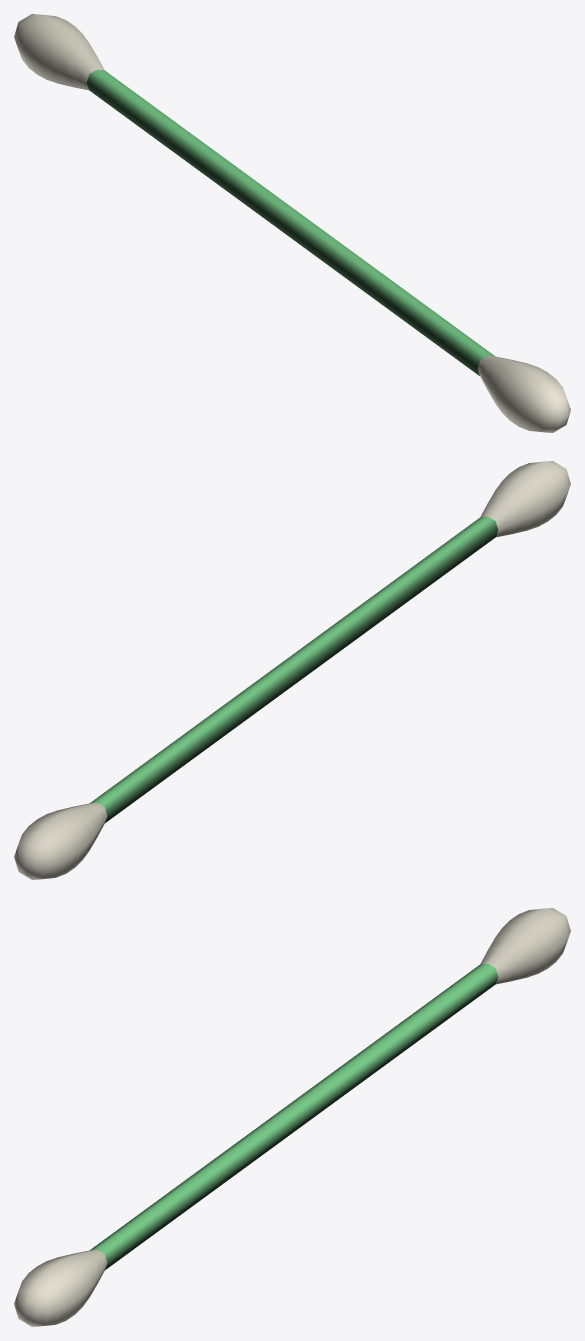
Rendered from qtip.FBX.
3 renders of one model, top to bottom at view 1: azimuth 30°, elevation 25°; view 2: azimuth 150°, elevation 25°; view 3: azimuth 330°, elevation 25°, orthographic.
Parts seen in each view (by area): view 1: Box001; view 2: Box001; view 3: Box001.
Boxes of the visible parts, x1,y1,x2,y2 form: Box001: (14, 14, 570, 432); Box001: (14, 461, 570, 879); Box001: (14, 908, 570, 1326).
Size of the model in its own units: 0.3865 by 0.3865 by 7.12.
Materials: 1 (1 with a texture image).
